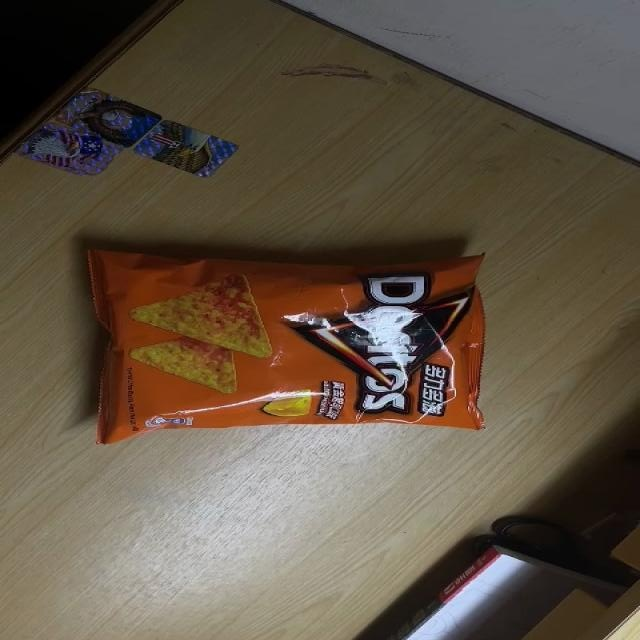Doritos: (88, 247, 490, 444)
